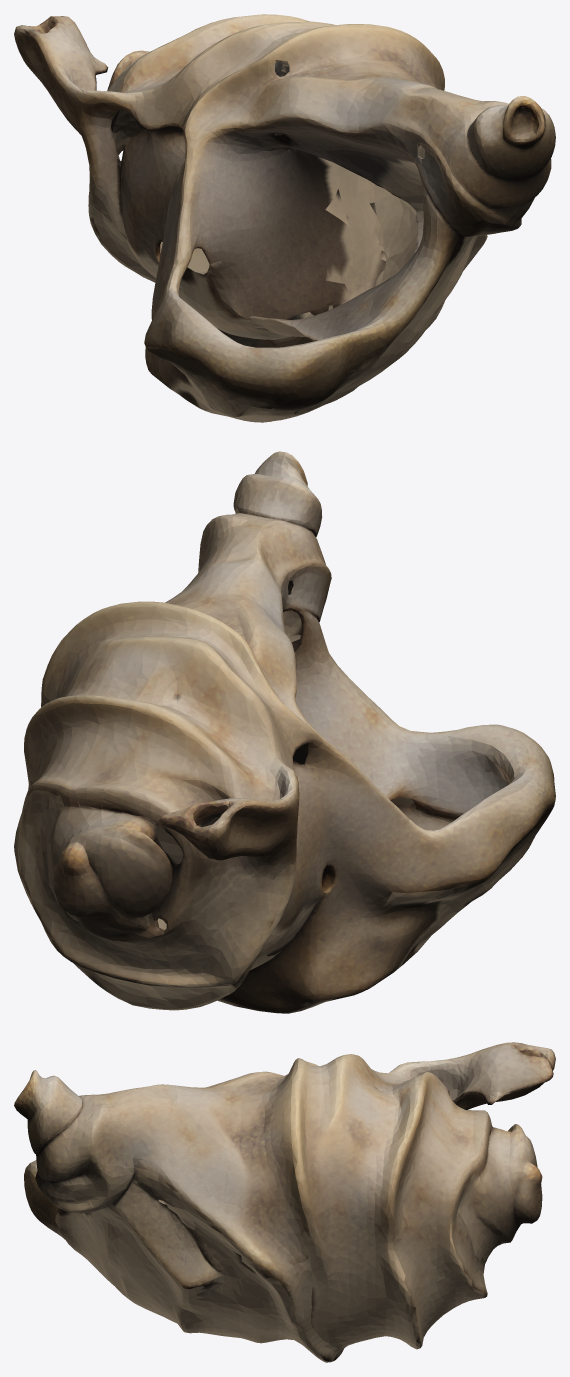
3 views of the same model, one above another, from view 1: azimuth 30°, elevation 25°; view 2: azimuth 150°, elevation 25°; view 3: azimuth 270°, elevation 25° (orthographic). The views are drawn at different scales.
Parts seen in each view (by area): view 1: world; view 2: world; view 3: world.
Part boxes in pixels (bbox=[...]): world: bbox=[14, 14, 555, 422]; world: bbox=[14, 451, 555, 1013]; world: bbox=[14, 1042, 555, 1362].
Bounding box in the file's own units: 0.7021 × 0.6183 × 0.941.
1 material, 1 textured.
